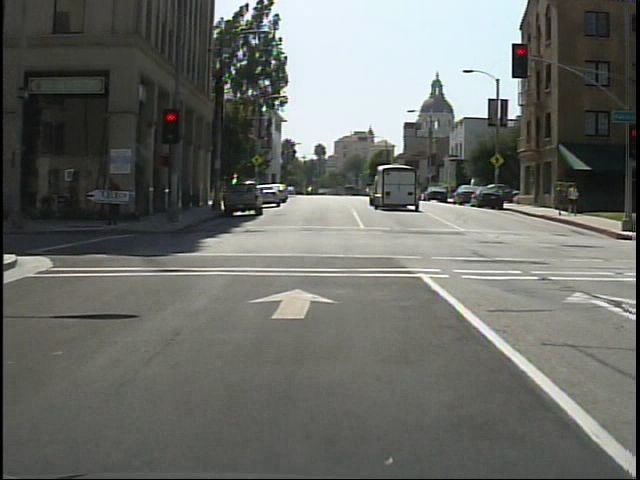person: (101, 173, 131, 229), (565, 183, 581, 216), (554, 184, 569, 218)
